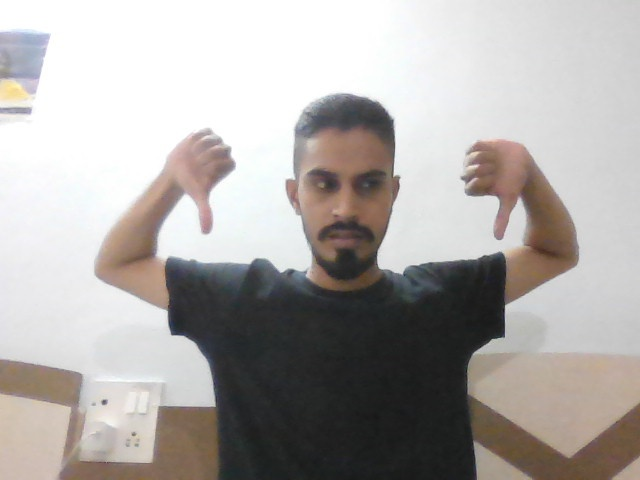ThumbsDown: (167, 125, 248, 246)
